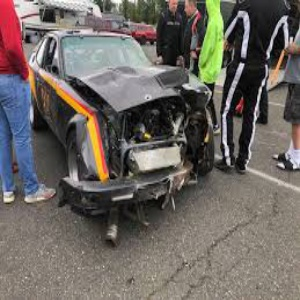bonnet: (91, 63, 208, 104)
bumper: (54, 127, 201, 206)
